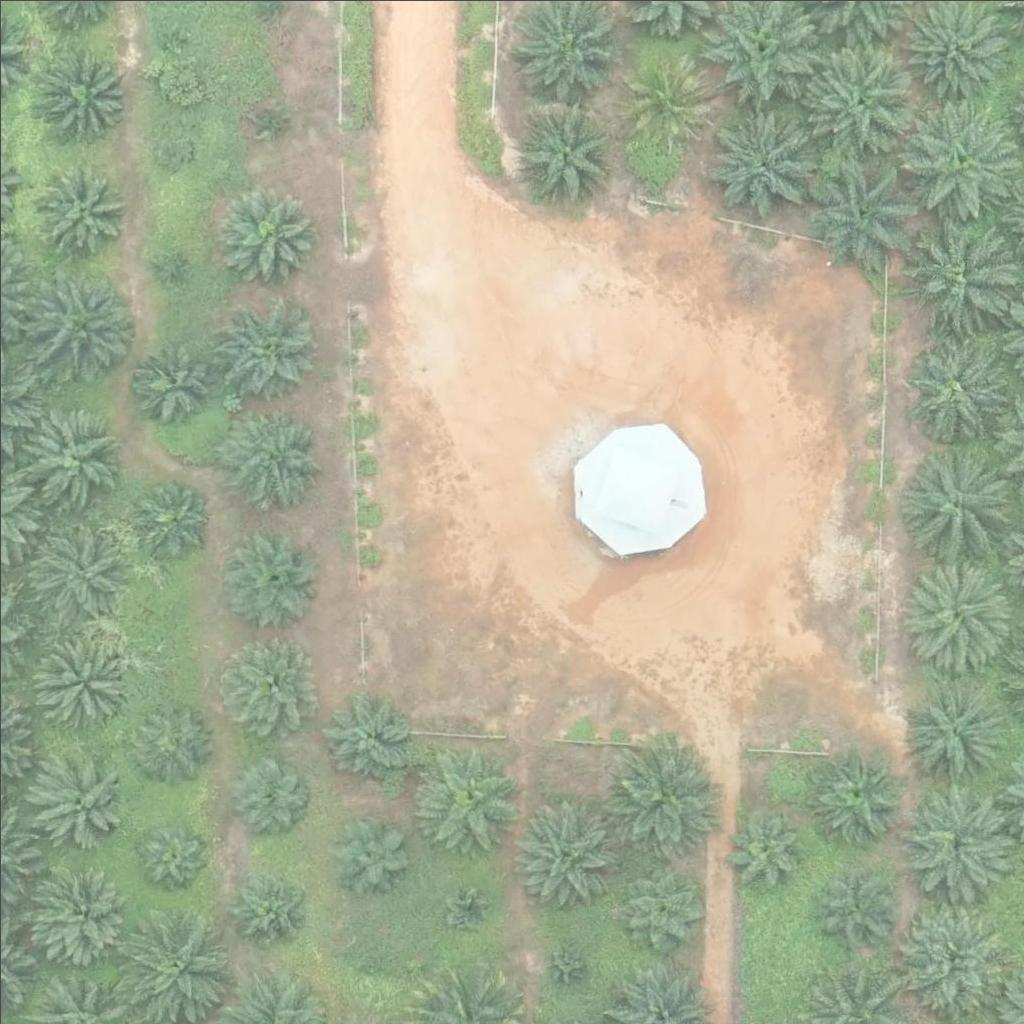Kelapa_Sawit: (894, 904, 1007, 1018), (24, 267, 137, 381), (700, 104, 813, 218), (802, 153, 915, 267), (900, 781, 1013, 894), (896, 677, 1009, 790), (896, 554, 1009, 667), (901, 442, 1014, 555), (601, 743, 714, 856), (410, 742, 522, 856), (803, 47, 915, 161), (900, 214, 1012, 328), (509, 793, 621, 906), (903, 101, 1015, 214), (224, 408, 324, 509), (32, 859, 132, 960), (26, 747, 126, 848), (31, 629, 131, 730), (216, 297, 316, 398), (218, 189, 318, 290), (516, 102, 616, 203), (904, 336, 1004, 436), (214, 635, 314, 735), (219, 528, 319, 628), (21, 516, 121, 616), (19, 403, 119, 503), (810, 749, 898, 838), (317, 695, 405, 783), (622, 52, 710, 140), (615, 860, 702, 948), (324, 810, 411, 898), (225, 860, 312, 948), (228, 751, 315, 839), (126, 696, 213, 784), (34, 169, 121, 257), (41, 47, 128, 135), (128, 340, 215, 428), (814, 862, 889, 938), (133, 480, 208, 556), (728, 812, 803, 887), (135, 817, 210, 892), (537, 939, 587, 990), (443, 883, 493, 934), (346, 947, 396, 997), (152, 127, 190, 165), (152, 255, 177, 280), (156, 25, 181, 50), (256, 105, 281, 130)
